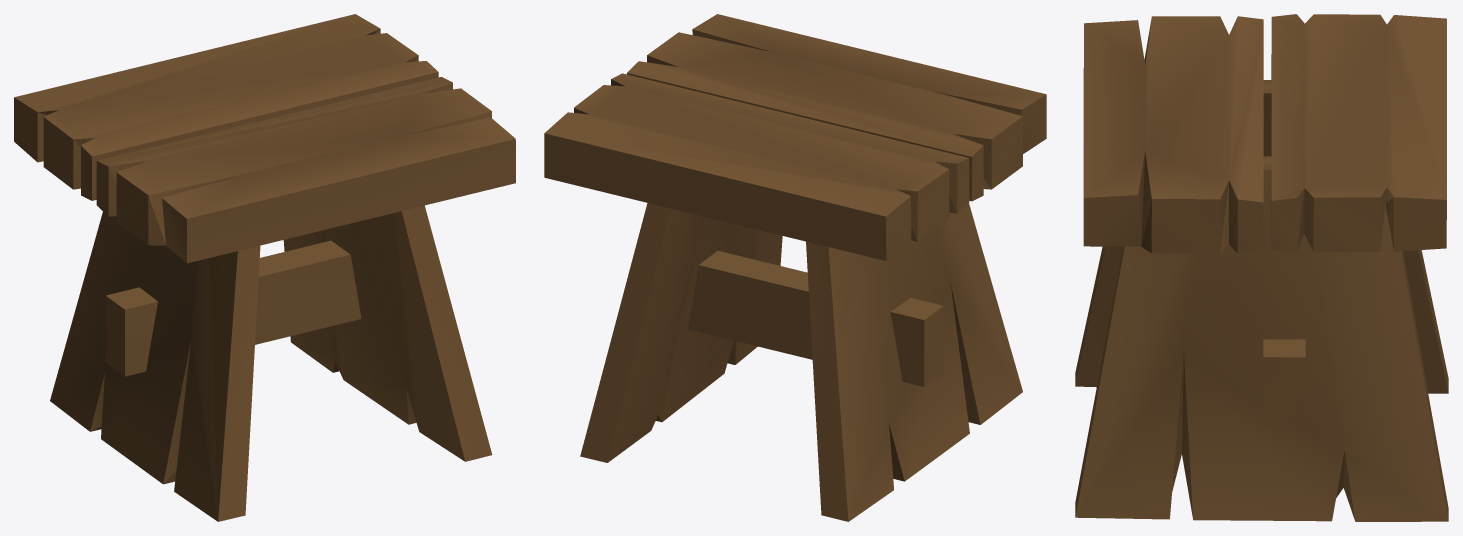
File: obj_benchSmall_LOW.FBX
3 renders of one model, left to right at view 1: azimuth 30°, elevation 25°; view 2: azimuth 150°, elevation 25°; view 3: azimuth 270°, elevation 25°, orthographic. The views are drawn at different scales.
Parts seen in each view (by area): view 1: obj_benchSmall_LOW; view 2: obj_benchSmall_LOW; view 3: obj_benchSmall_LOW.
Boxes of the visible parts, left/top/right/bottom form: obj_benchSmall_LOW: left=14, top=14, right=515, bottom=521; obj_benchSmall_LOW: left=544, top=14, right=1046, bottom=521; obj_benchSmall_LOW: left=1075, top=14, right=1448, bottom=521.
Bounding box in the file's own units: 1.29 × 1.13 × 1.11.
